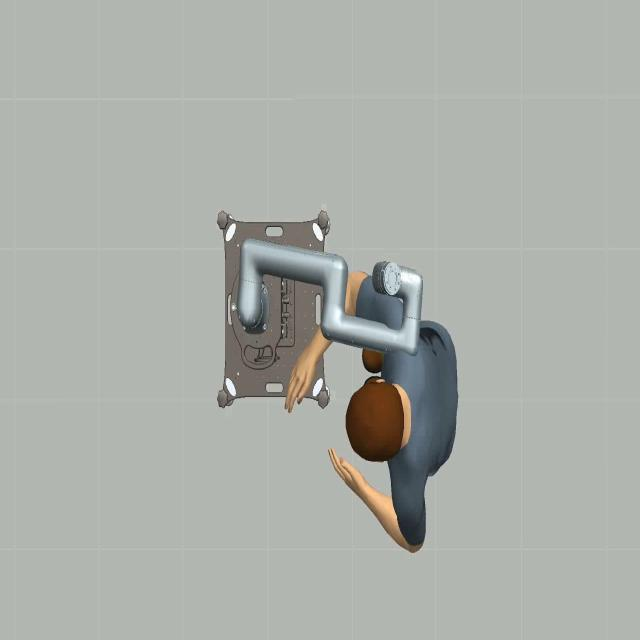human: (283, 255, 473, 561)
robot: (217, 205, 434, 375)
